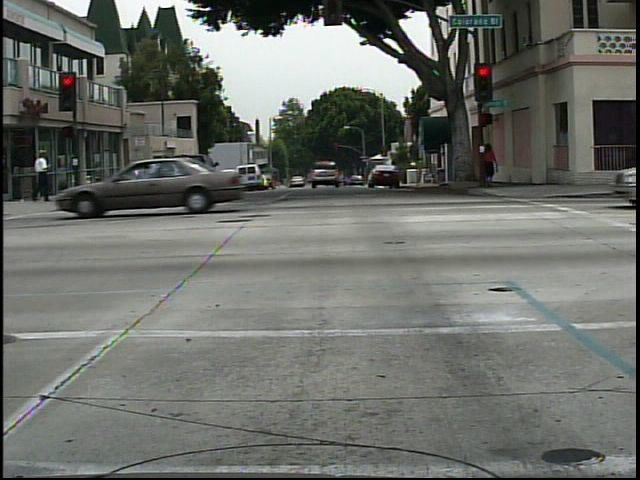person: (28, 143, 56, 199), (482, 140, 502, 191)
